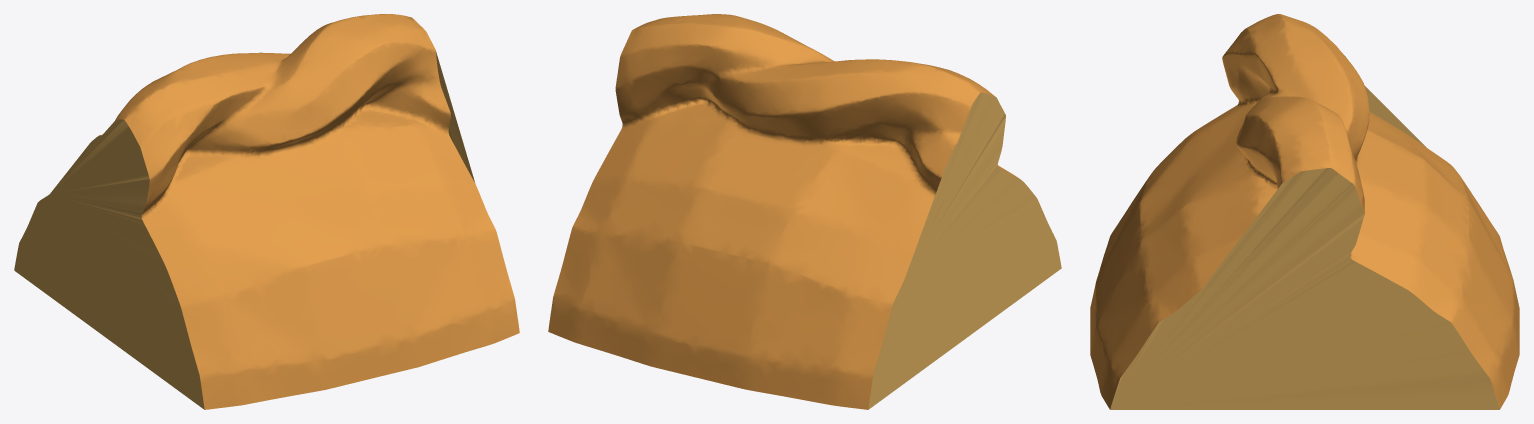
File: Saltena_Piece_04.fbx
The picture shows the model from 3 angles, left to right: view 1: azimuth 30°, elevation 25°; view 2: azimuth 150°, elevation 25°; view 3: azimuth 270°, elevation 25°; orthographic projection. The views are drawn at different scales.
Parts seen in each view (by area): view 1: Saltena_Piece_04; view 2: Saltena_Piece_04; view 3: Saltena_Piece_04.
Part boxes in pixels (bbox=[...]): Saltena_Piece_04: bbox=[14, 14, 519, 409]; Saltena_Piece_04: bbox=[548, 14, 1061, 409]; Saltena_Piece_04: bbox=[1090, 14, 1519, 409].
Size of the model in its own units: 48.33 by 37.51 by 55.75.
